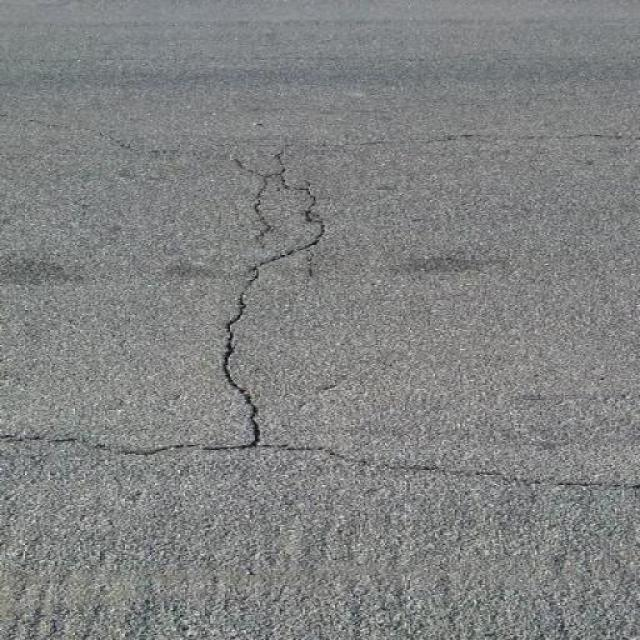Crack: (0, 423, 640, 499), (201, 160, 345, 450)
